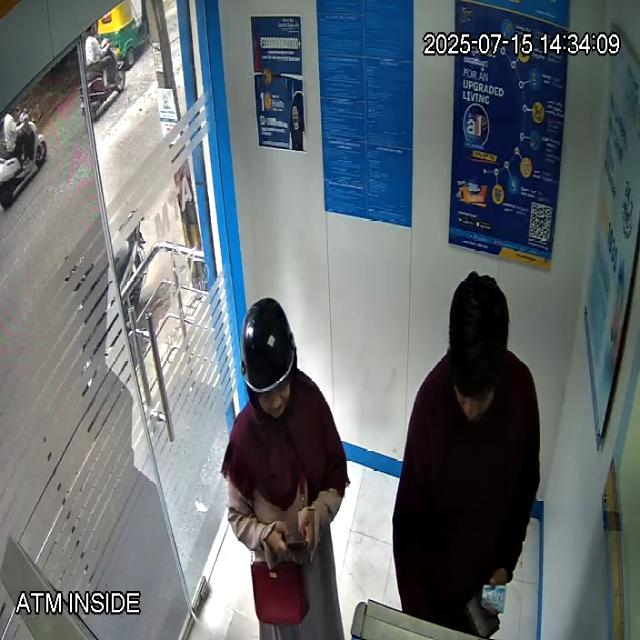helmet: (239, 296, 298, 420)
no_helmet: (447, 272, 509, 424)
